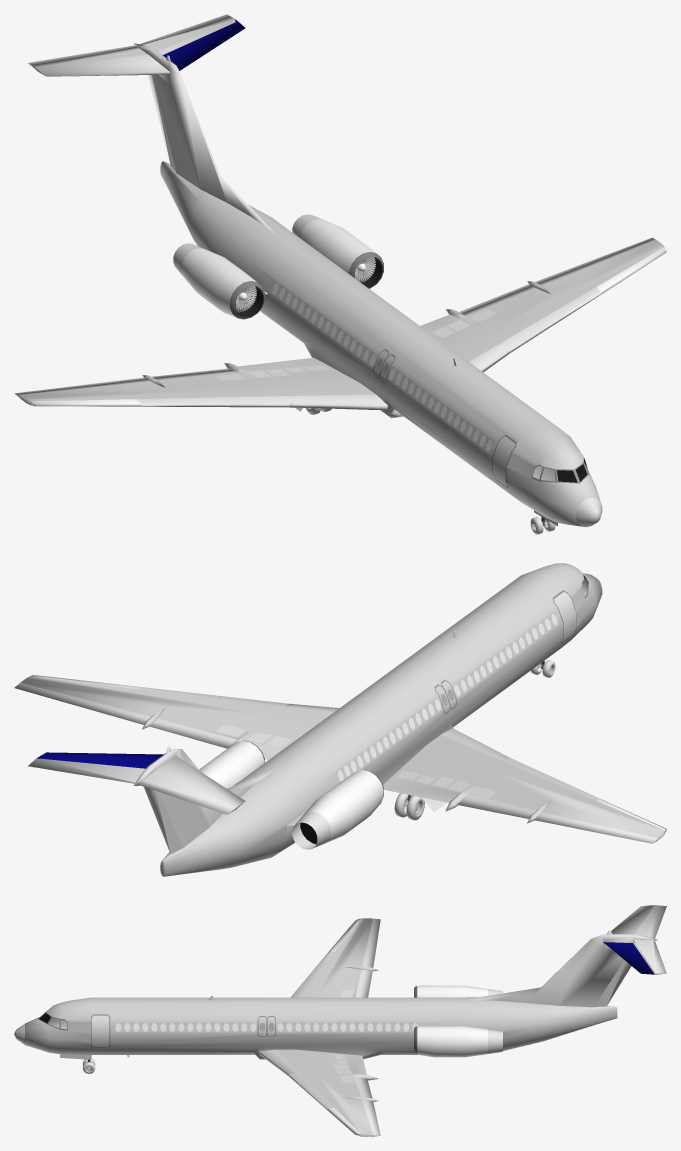
The model's file is blackAirport.fbx.
3 views of the same model, one above another, from view 1: azimuth 30°, elevation 25°; view 2: azimuth 150°, elevation 25°; view 3: azimuth 270°, elevation 25° (orthographic). The views are drawn at different scales.
Parts seen in each view (by area): view 1: Layer0_001, Group#20_003, Group#20_001, Group#22_001, Group#16_001, Group#35_002, Group#36_002, Group#35_001, Group#14_001, Group#17_001, Group#15_001, Group#34_002 (+1 smaller); view 2: Layer0_001, Group#20_003, Group#20_001, Group#22_001, Group#16_001, Group#14_001, Group#15_001, Group#17_001, Group#18_001, Group#18_002, Group#19_001, Group#10_001 (+5 smaller); view 3: Layer0_001, Group#22_001, Group#20_001, Group#20_003, Group#17_001, Group#14_001, Group#16_001, Group#1_001, Group#15_001, Group#10_001, Group#18_002, Group#35_001 (+4 smaller).
Part boxes in pixels (box(x1,y1,x2,y2)): Layer0_001: box(160, 161, 601, 526); Group#20_003: box(20, 357, 375, 405); Group#20_001: box(420, 240, 664, 361); Group#22_001: box(133, 43, 276, 234); Group#16_001: box(36, 54, 169, 76); Group#35_002: box(137, 396, 292, 407); Group#36_002: box(285, 394, 387, 410); Group#35_001: box(500, 287, 601, 354); Group#14_001: box(139, 14, 235, 54); Group#17_001: box(163, 19, 245, 70); Group#15_001: box(28, 45, 147, 70); Group#34_002: box(31, 399, 141, 406); Layer0_001: box(160, 563, 602, 876); Group#20_003: box(383, 735, 664, 840); Group#20_001: box(21, 675, 331, 759); Group#22_001: box(133, 746, 275, 847); Group#16_001: box(155, 756, 245, 809); Group#14_001: box(28, 758, 145, 783); Group#15_001: box(137, 770, 235, 814); Group#17_001: box(37, 752, 163, 768); Group#18_001: box(14, 682, 150, 724); Group#18_002: box(533, 812, 657, 843); Group#19_001: box(148, 718, 237, 748); Group#10_001: box(144, 787, 182, 853); Layer0_001: box(25, 985, 617, 1059); Group#22_001: box(460, 930, 657, 1007); Group#20_001: box(276, 1049, 378, 1136); Group#20_003: box(300, 918, 378, 997); Group#17_001: box(603, 942, 654, 974); Group#14_001: box(633, 939, 666, 974); Group#16_001: box(611, 905, 654, 934); Group#1_001: box(91, 1015, 109, 1047); Group#15_001: box(635, 905, 666, 938); Group#10_001: box(594, 960, 631, 1007); Group#18_002: box(362, 918, 380, 968); Group#35_001: box(287, 1071, 333, 1109).
Bounding box in the file's own units: 1110 × 336 × 1415.
